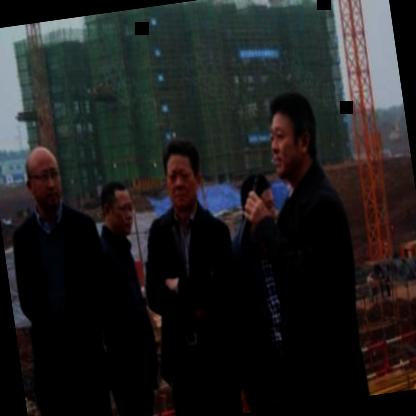head: (256, 82, 324, 188), (156, 132, 209, 218), (17, 137, 70, 218), (94, 172, 140, 240), (235, 166, 280, 233)
